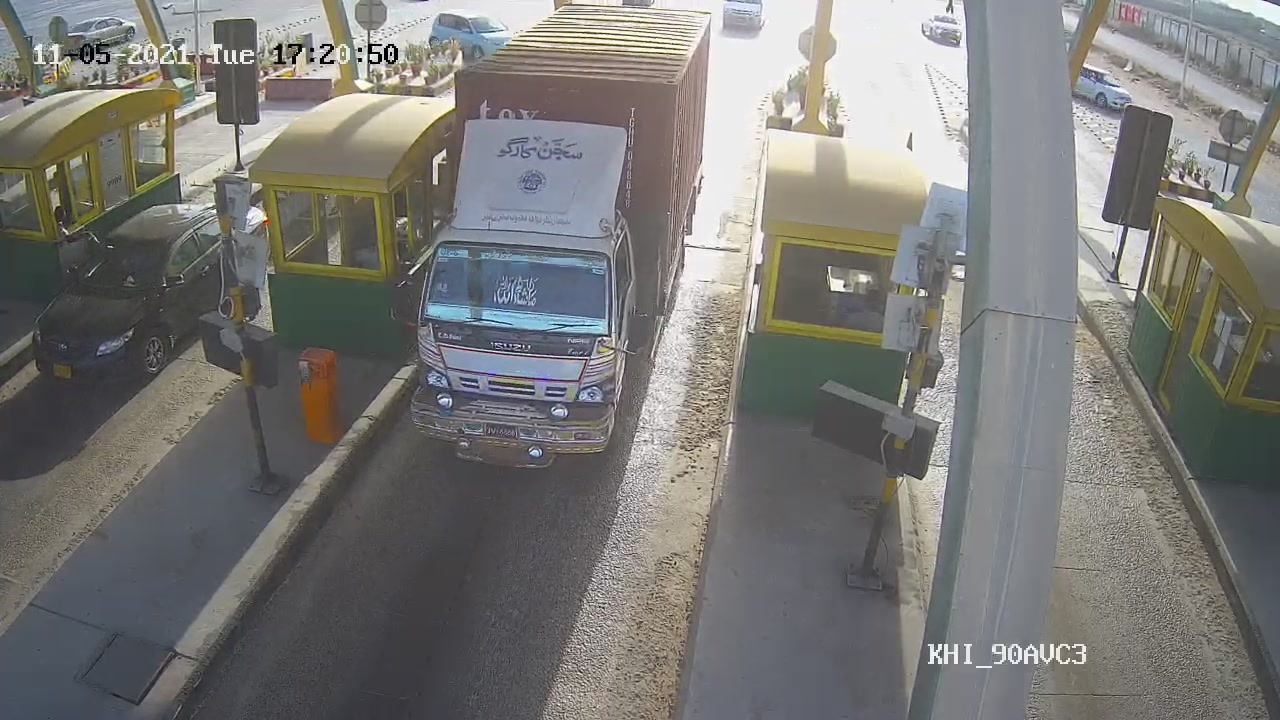F6: (401, 8, 719, 475)
